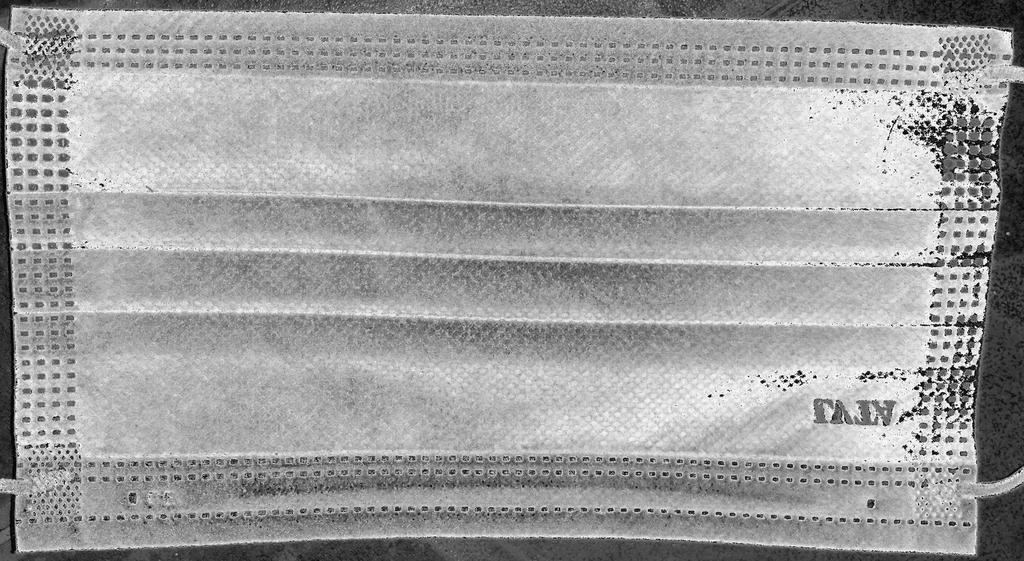High GSM: (2, 1, 1012, 560)
